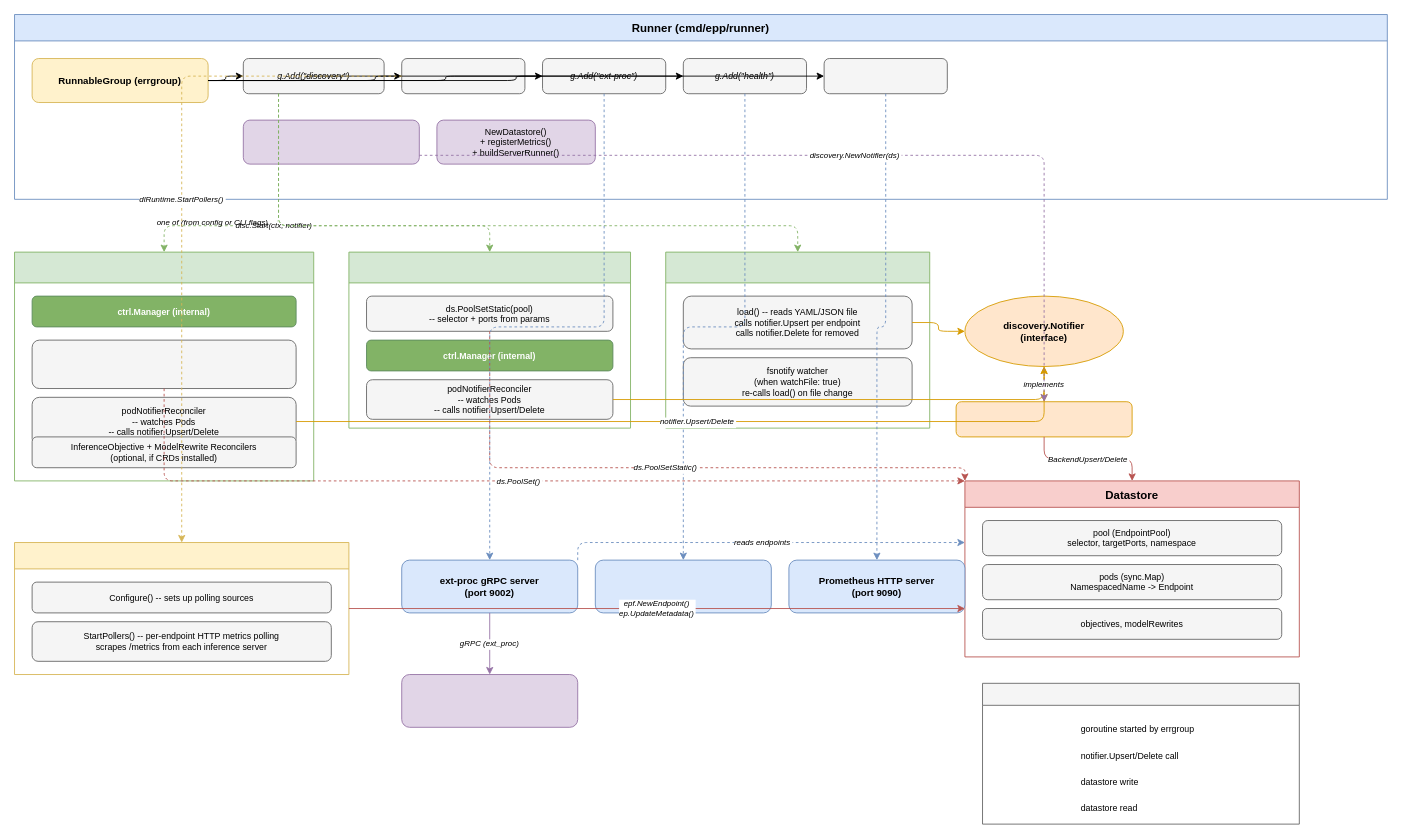
This 1402x839 diagram has some shape labels left out. The box of each missing label's shape, as (x1, y1, x2, y2) in pixels:
Datalayer Runtime: (14, 542, 349, 675)
datastoreNotifier (discovery.NewNotifier(ds)): (955, 401, 1132, 437)
Envoy (ext_proc filter): (401, 674, 578, 727)
FileDiscoveryPlugin (pkg/.../discovery/file): (665, 251, 930, 428)
g.Add("metrics"): (823, 58, 947, 94)
g.Add("pollers"): (401, 58, 525, 94)
health gRPC server (port 9003): (594, 559, 771, 613)
InferencePoolDiscoveryPlugin (pkg/.../discovery/k8s): (14, 251, 314, 481)
InferencePoolReconciler -- watches InferencePool CRD -- calls ds.PoolSet(): (31, 339, 296, 389)
Legend: (982, 682, 1299, 824)
resolveDiscovery() (from config or CLI flags): (242, 119, 419, 164)
StaticSelectorDiscoveryPlugin (pkg/.../discovery/k8s): (348, 251, 631, 428)
